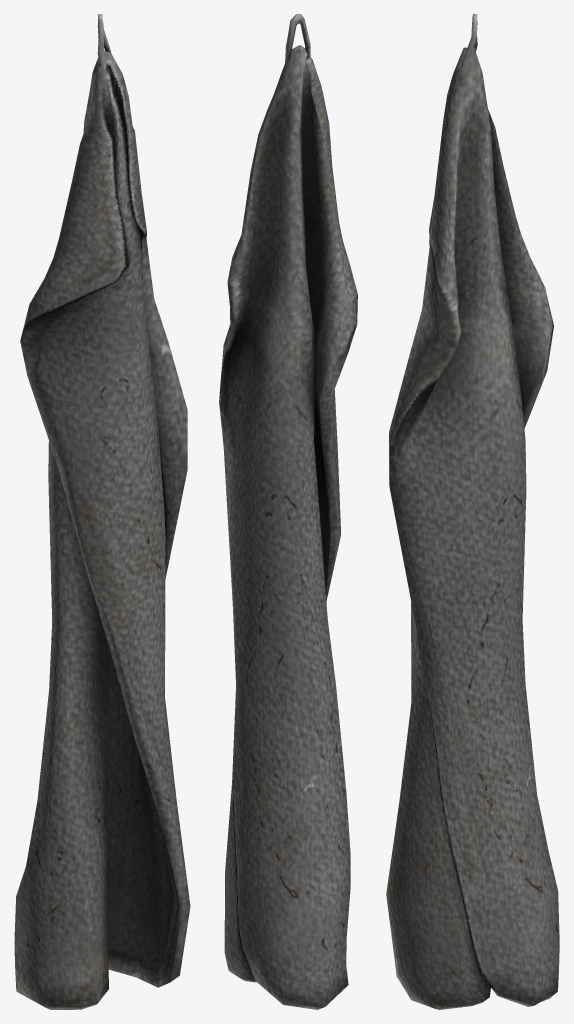
The model's file is towel_hanging2.DAE.
3 renders of one model, left to right at view 1: azimuth 90°, elevation 25°; view 2: azimuth 210°, elevation 25°; view 3: azimuth 270°, elevation 25°, orthographic. The views are drawn at different scales.
Parts seen in each view (by area): view 1: hanging2; view 2: hanging2; view 3: hanging2.
Part boxes in pixels (x1,y1,x2,y2): hanging2: (14,14,190,1009); hanging2: (219,14,357,1009); hanging2: (386,14,559,1009).
Bounding box in the file's own units: 0.1903 × 1.71 × 0.2757.
